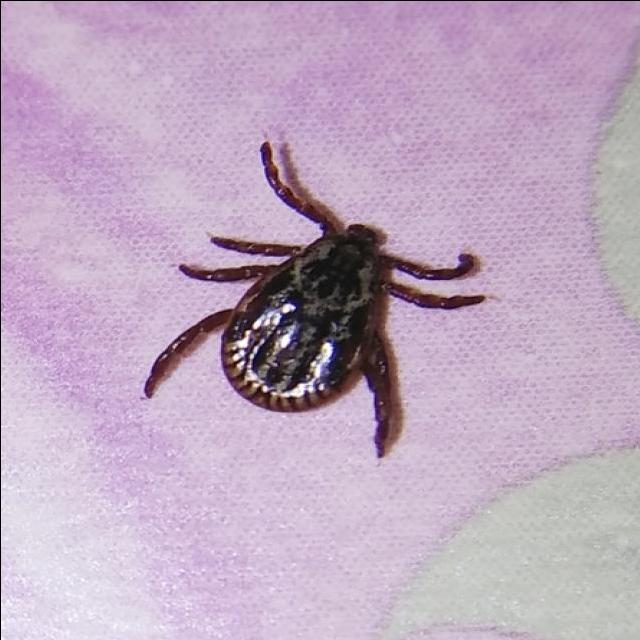Dermacentor Reticulatus-M: (144, 140, 486, 460)
